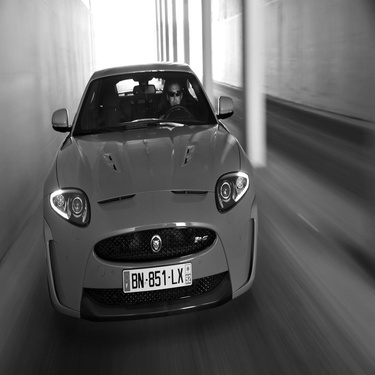car: (27, 35, 262, 325)
